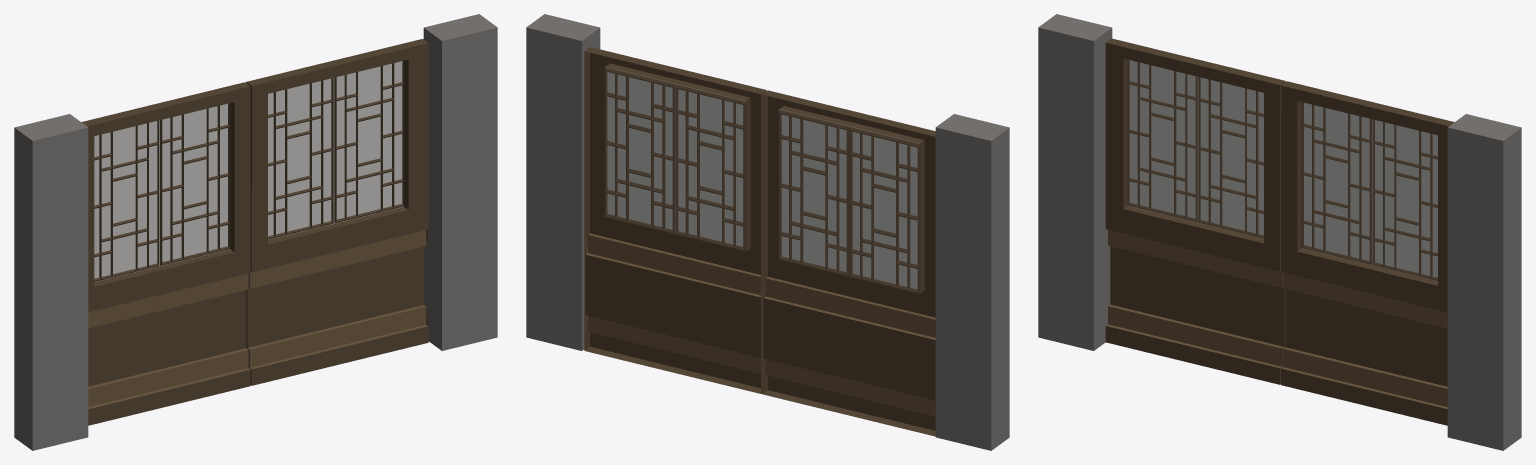
File: SM_Env_Door_29.fbx
3 views of the same model, side by side, from view 1: azimuth 30°, elevation 25°; view 2: azimuth 150°, elevation 25°; view 3: azimuth 330°, elevation 25° (orthographic).
Visible parts, largest first — view 1: SM_Env_Door_29; view 2: SM_Env_Door_29; view 3: SM_Env_Door_29.
Part boxes in pixels (x1,y1,x2,y2): SM_Env_Door_29: [14, 14, 497, 450]; SM_Env_Door_29: [526, 14, 1009, 450]; SM_Env_Door_29: [1038, 14, 1521, 450].
Size of the model in its own units: 233 by 148 by 15.99.
1 material, 1 textured.
